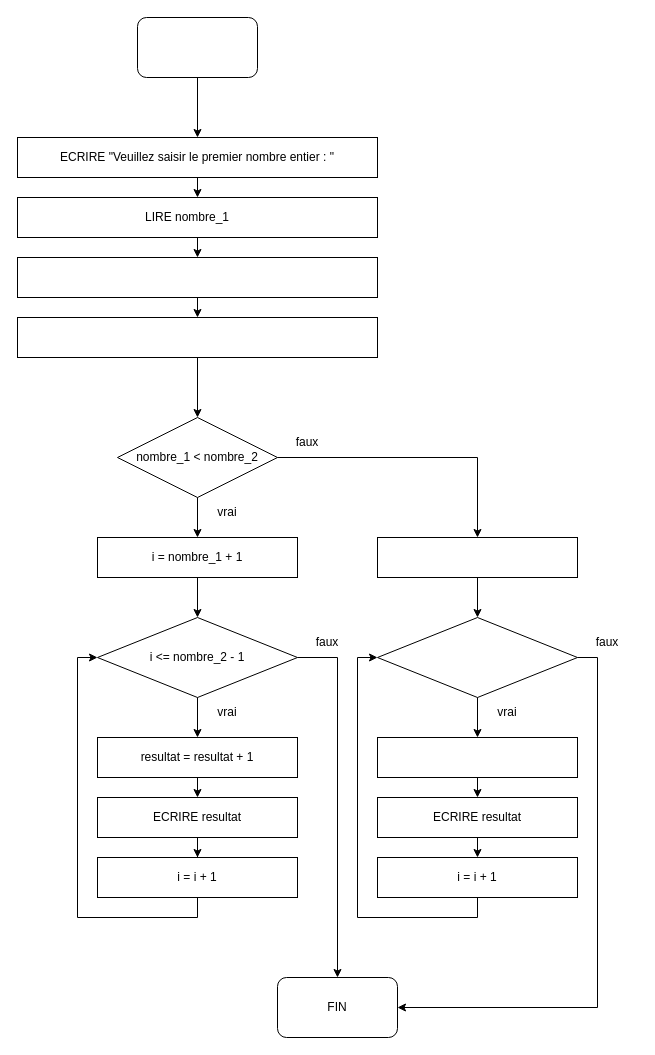
Image size: 655x1055. Some labels were removed from this diagram. Here are the shapes that lost their labels. From the top down, the centre of each, then its label:
point 197,47: DEBUT
point 197,277: ECRIRE "Veuillez saisir le deuxième nombre entier : "
point 197,337: LIRE nombre_2
point 477,557: i = nombre_1 - 1
point 477,657: i <= nombre_2 + 1
point 477,757: resultat <-- resultat - 1
